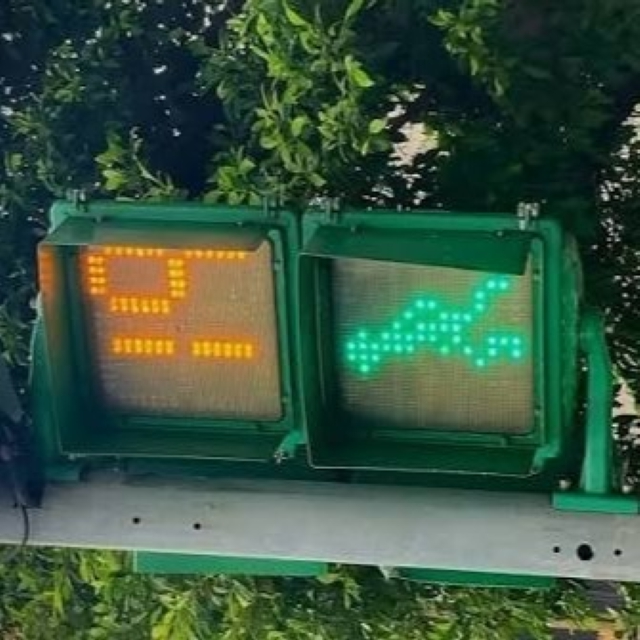green_light: (37, 199, 566, 474)
